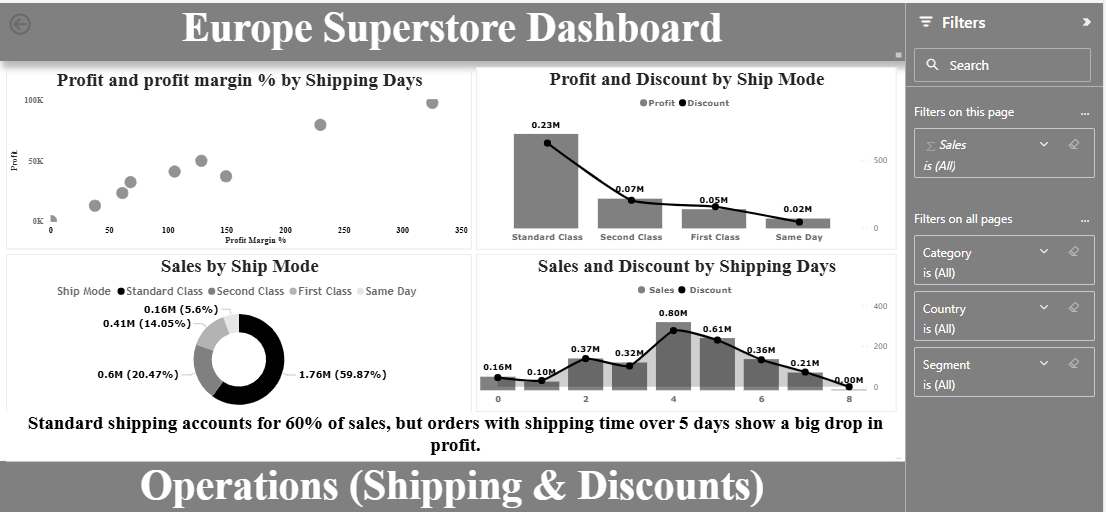

Layout of this report page (visuals, bound fields, positions):
{"tool":"powerbi","page":{"name":"Operations (Shipping & Discounts)","canvas":[1280,720],"ordinal":3},"visuals":[{"type":"textbox","title":"Europe Superstore Dashboard","box":[0,0,1280,82],"z":0},{"type":"textbox","title":"Operations (Shipping & Discounts)","box":[0,646.8,1280.5,73.2],"z":1000},{"type":"actionButton","box":[10,10,100,40],"z":2000},{"type":"donutChart","title":"Sales by Ship Mode","fields":{"Category":["Orders.Ship Mode"],"Y":["Sum(Orders.Sales)"]},"box":[10,354.7,658.2,236],"z":3000},{"type":"scatterChart","title":"Profit  and profit margin % by Shipping Days","fields":{"Category":["Orders.Total Shipping Days"],"X":["Sum(Orders.Profit Margin %)"],"Y":["Orders.Profit"]},"box":[10,91.9,658.2,256.4],"z":4000},{"type":"textbox","title":"Standard shipping accounts for 60% of sales, but orders with shipping time over 5 days show a big drop in profit.","box":[10,577.3,1270,70.3],"z":5000},{"type":"lineStackedColumnComboChart","title":"Sales and Discount by Shipping Days","fields":{"Category":["Orders.Total Shipping Days"],"Y":["Sum(Orders.Sales)"],"Y2":["Sum(Orders.Discount)"]},"box":[674.3,354.7,594,222.5],"z":6000},{"type":"lineStackedColumnComboChart","title":"Profit and Discount by Ship Mode","fields":{"Y2":["Sum(Orders.Discount)"],"Y":["Sum(Orders.Profit)"],"Category":["Orders.Ship Mode"]},"box":[674.5,90.4,593.8,258],"z":7000}]}

Visuals, with their boxes on the page's 1280x720 design canvas (x1, y1, x2, y2). These are canvas units, not pixel positions in the 1106x512 screenshot, which may show the page scaled, cropped or inside an application window:
"Europe Superstore Dashboard" textbox: 0 0 1280 82
"Operations (Shipping & Discounts)" textbox: 0 647 1280 720
actionButton: 10 10 110 50
"Sales by Ship Mode" donutChart: 10 355 668 591
"Profit  and profit margin % by Shipping Days" scatterChart: 10 92 668 348
"Standard shipping accounts for 60% of sales, but orders with shipping time over 5 days show a big drop in profit." textbox: 10 577 1280 648
"Sales and Discount by Shipping Days" lineStackedColumnComboChart: 674 355 1268 577
"Profit and Discount by Ship Mode" lineStackedColumnComboChart: 674 90 1268 348
